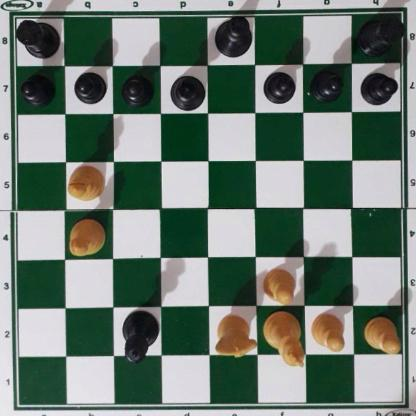black-bishop: (169, 75, 206, 111)
black-king: (213, 14, 254, 58)
black-pawn: (360, 69, 396, 105), (121, 72, 156, 109), (263, 68, 295, 103), (20, 72, 54, 104), (311, 67, 343, 101), (73, 70, 105, 104)
black-queen: (121, 308, 159, 363)
black-rook: (13, 16, 61, 58), (358, 15, 407, 55)
white-bishop: (68, 219, 106, 257), (66, 164, 105, 201)
white-king: (263, 310, 306, 368)
white-knight: (214, 313, 258, 358)
white-pawn: (310, 311, 346, 352), (363, 315, 400, 352), (261, 268, 296, 305)
